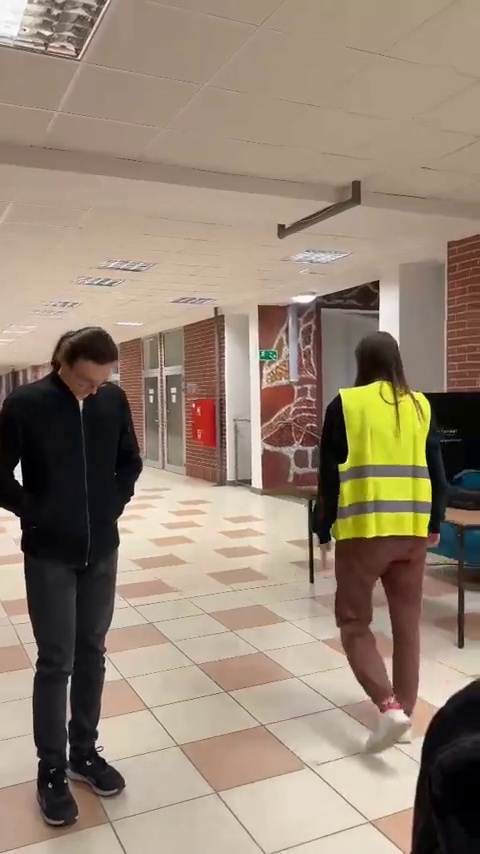no vest: (0, 320, 139, 827)
vest: (307, 331, 468, 773)
